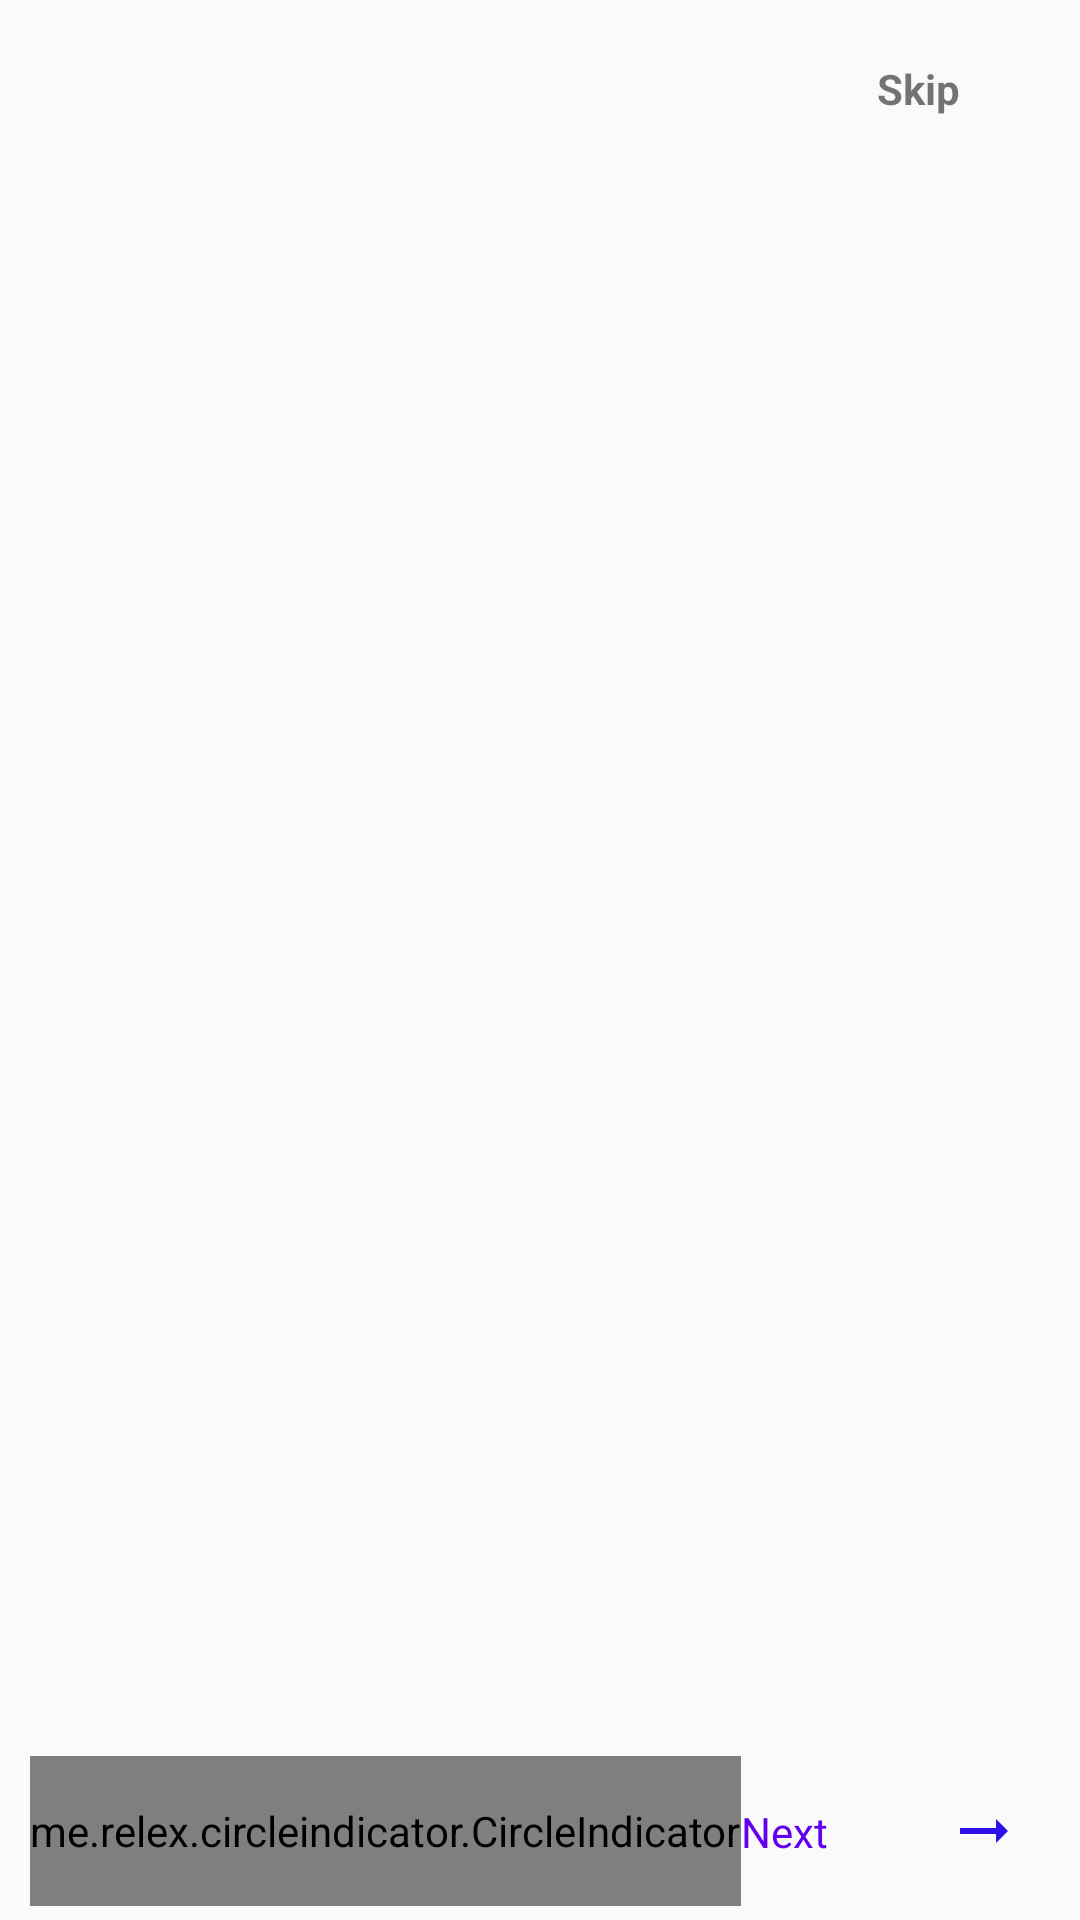

Icon click points for this 1080w x 1920h phone screenshot, format (x=x, y=y):
arrow right: (x=984, y=1831)
